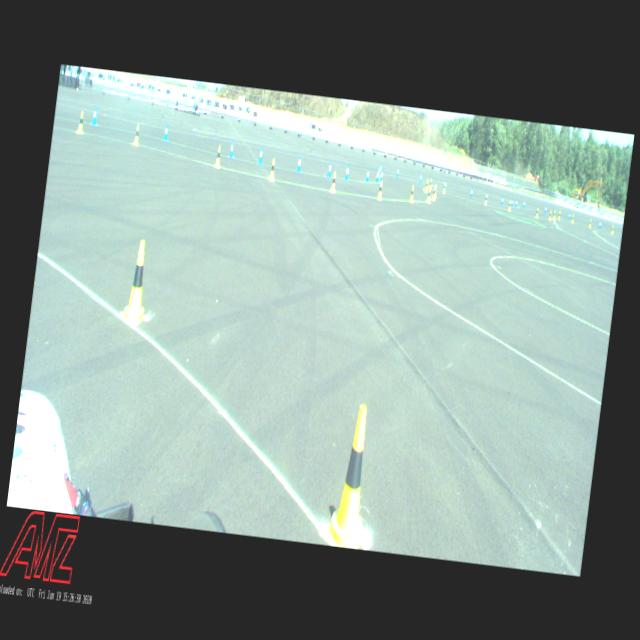blue_cone: (257, 146, 263, 164), (92, 106, 98, 124), (228, 140, 234, 158), (163, 123, 169, 140), (296, 155, 302, 172), (344, 164, 350, 179), (327, 161, 332, 177), (365, 168, 370, 182), (379, 169, 383, 182), (375, 169, 379, 182), (378, 163, 382, 174), (514, 198, 518, 207), (418, 174, 422, 183), (444, 180, 447, 190), (510, 198, 513, 207), (501, 196, 504, 205), (522, 199, 525, 208), (470, 187, 472, 197), (396, 167, 398, 177), (568, 210, 570, 220), (544, 204, 546, 213), (598, 220, 600, 228)
yellow_cone: (324, 402, 381, 548), (121, 238, 155, 325), (76, 111, 85, 133), (214, 144, 222, 168), (268, 158, 276, 180), (133, 124, 141, 145), (330, 171, 338, 192), (408, 184, 414, 202), (377, 181, 383, 199), (426, 186, 432, 202), (432, 187, 436, 200), (483, 194, 488, 204), (507, 200, 511, 211), (442, 182, 446, 193), (428, 178, 432, 189), (557, 210, 561, 220), (424, 180, 428, 190), (535, 207, 539, 217), (548, 210, 552, 220), (588, 218, 592, 227), (610, 224, 614, 233), (552, 210, 556, 219), (571, 214, 574, 222)
